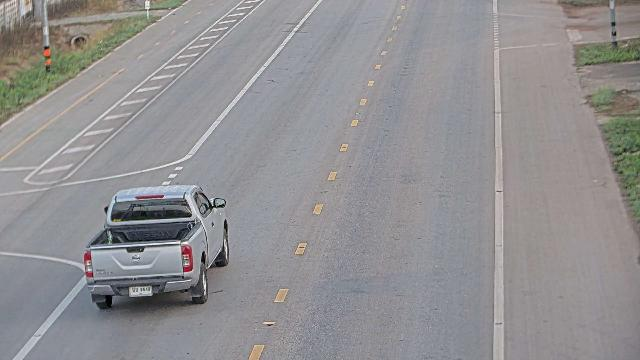pickup-truck: (83, 183, 230, 309)
